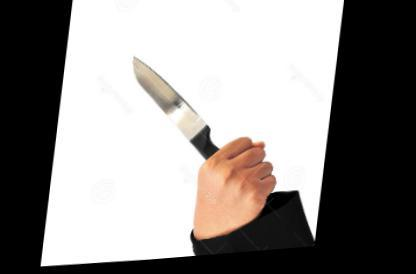knife: (113, 42, 294, 203)
